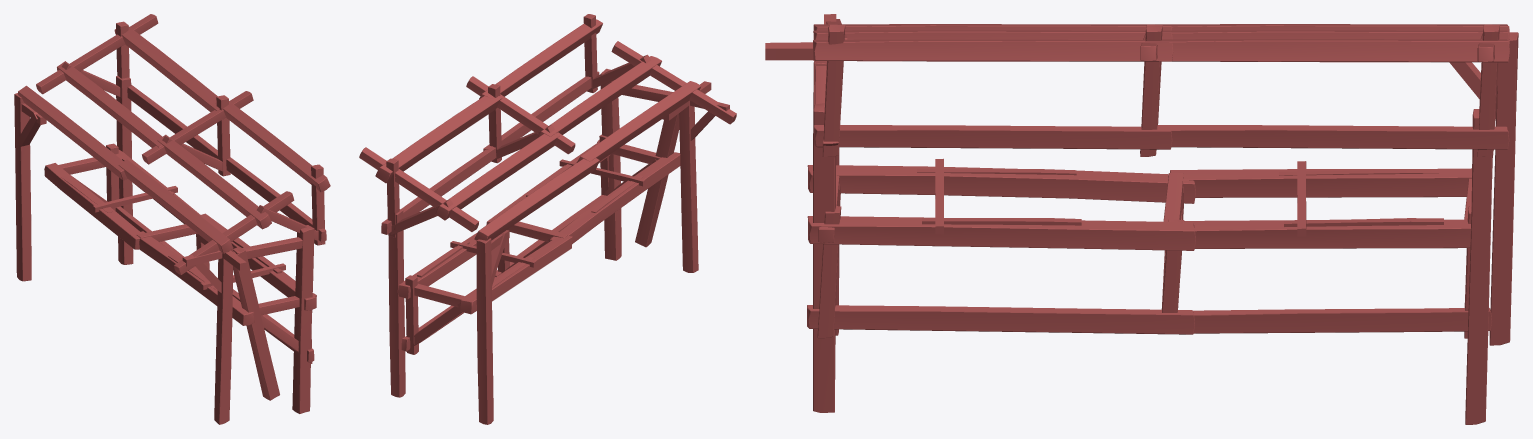
Rendered from Beam_Structure_21A_Lod0.fbx.
3 renders of one model, left to right at view 1: azimuth 30°, elevation 25°; view 2: azimuth 150°, elevation 25°; view 3: azimuth 270°, elevation 25°, orthographic. The views are drawn at different scales.
Visible parts, largest first — view 1: Beam_Structure_21A_Lod0; view 2: Beam_Structure_21A_Lod0; view 3: Beam_Structure_21A_Lod0.
Part boxes in pixels (box(x1,y1,x2,y2)): Beam_Structure_21A_Lod0: box(14, 14, 330, 424); Beam_Structure_21A_Lod0: box(359, 14, 736, 424); Beam_Structure_21A_Lod0: box(765, 14, 1518, 424).
Bounding box in the file's own units: 280 × 366 × 620.
